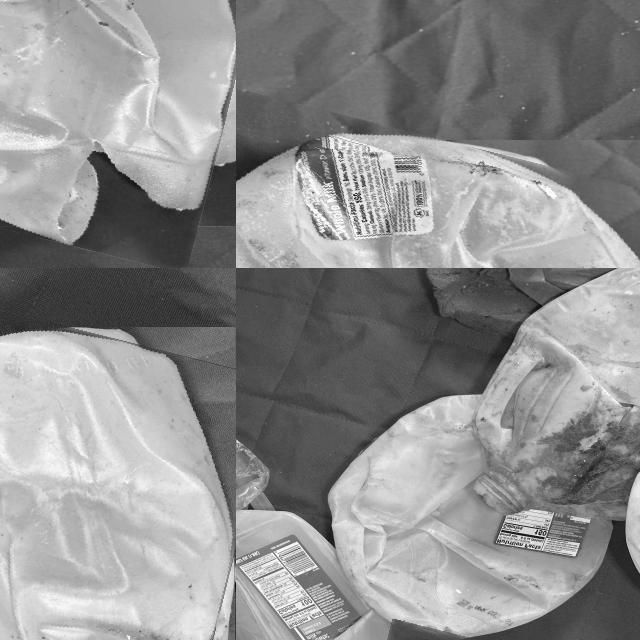milk-jug: (0, 306, 236, 640), (331, 392, 621, 640), (236, 110, 640, 268), (0, 0, 236, 251), (469, 268, 640, 525), (236, 512, 410, 640), (414, 268, 640, 338)
